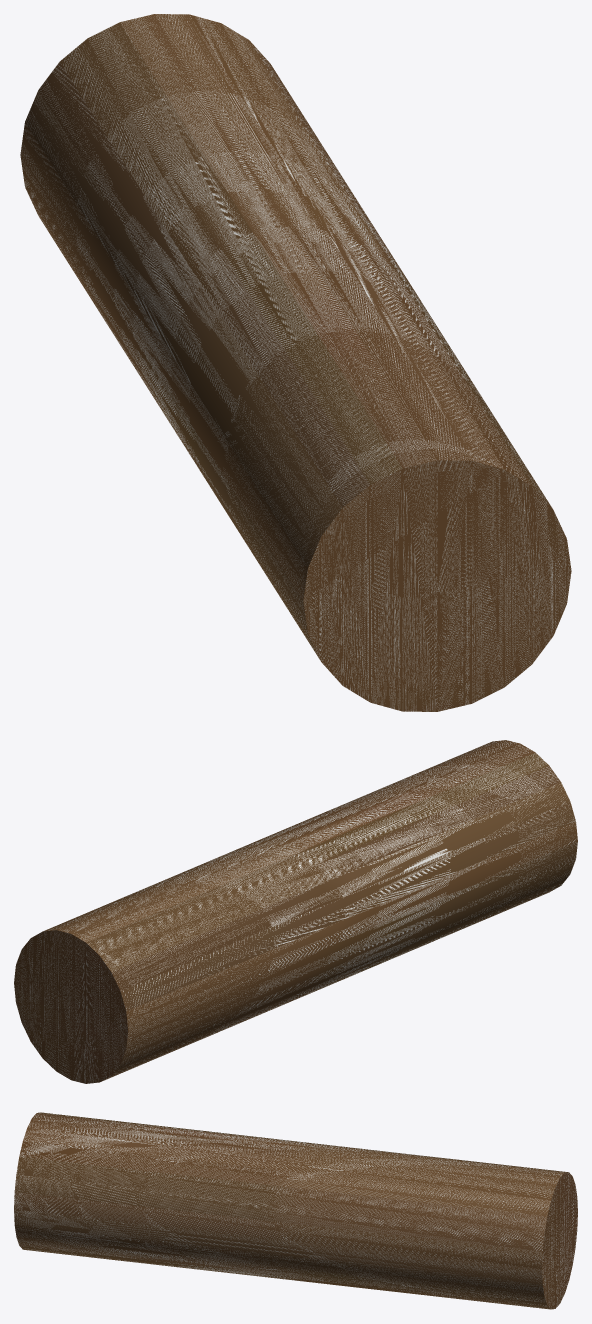
The model's file is original-8.obj.
The picture shows the model from 3 angles, top to bottom: view 1: azimuth 30°, elevation 25°; view 2: azimuth 150°, elevation 25°; view 3: azimuth 270°, elevation 25°; orthographic projection. The views are drawn at different scales.
Visible parts, largest first — view 1: Group7/mesh7/mesh7-geometry#mesh7-geometry; view 2: Group7/mesh7/mesh7-geometry#mesh7-geometry; view 3: Group7/mesh7/mesh7-geometry#mesh7-geometry.
Part boxes in pixels (x1,y1,x2,y2): Group7/mesh7/mesh7-geometry#mesh7-geometry: [20, 14, 571, 711]; Group7/mesh7/mesh7-geometry#mesh7-geometry: [14, 740, 577, 1083]; Group7/mesh7/mesh7-geometry#mesh7-geometry: [14, 1112, 577, 1309].
Bounding box in the file's own units: 0.0472 × 0.0238 × 0.0966.
2 materials, 1 textured.
